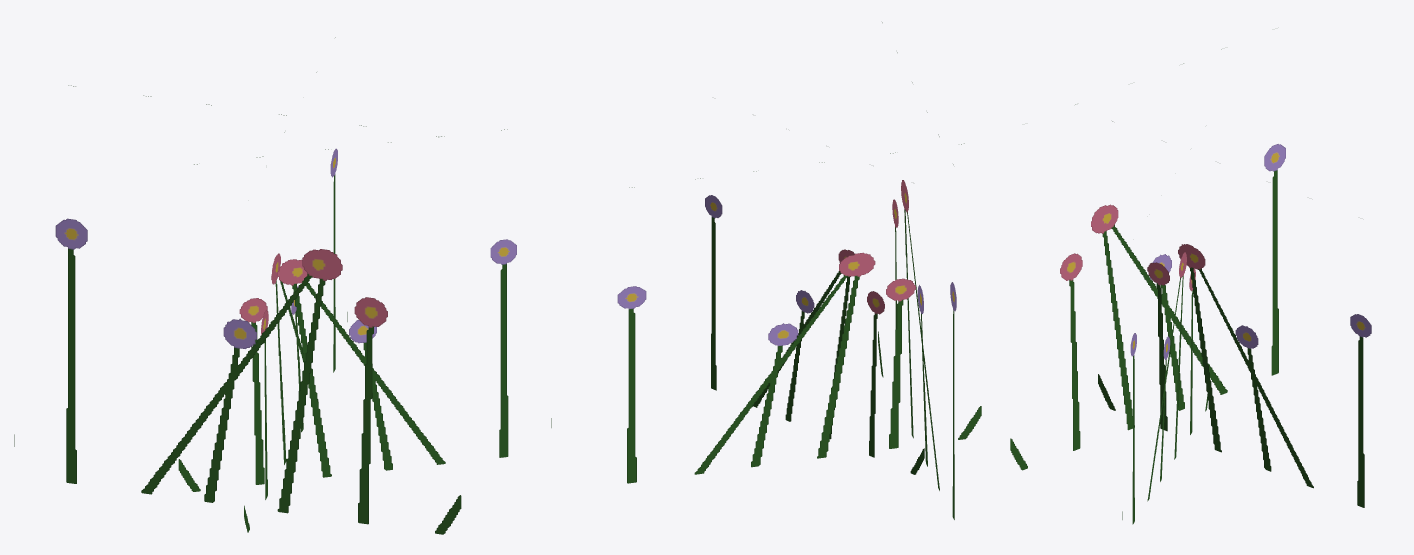
Rendered from prop_flower.glb.
3 renders of one model, left to right at view 1: azimuth 30°, elevation 25°; view 2: azimuth 150°, elevation 25°; view 3: azimuth 270°, elevation 25°, orthographic. The views are drawn at different scales.
Visible parts, largest first — view 1: prop; view 2: prop; view 3: prop.
Boxes of the visible parts, x1,y1,x2,y2 form: prop: (14,37,551,534); prop: (617,22,981,519); prop: (1010,49,1371,524).
Bounding box in the file's own units: 0.5278 × 0.4692 × 0.4793.
1 material, 1 textured.
